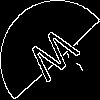W: (25, 25, 87, 91)
